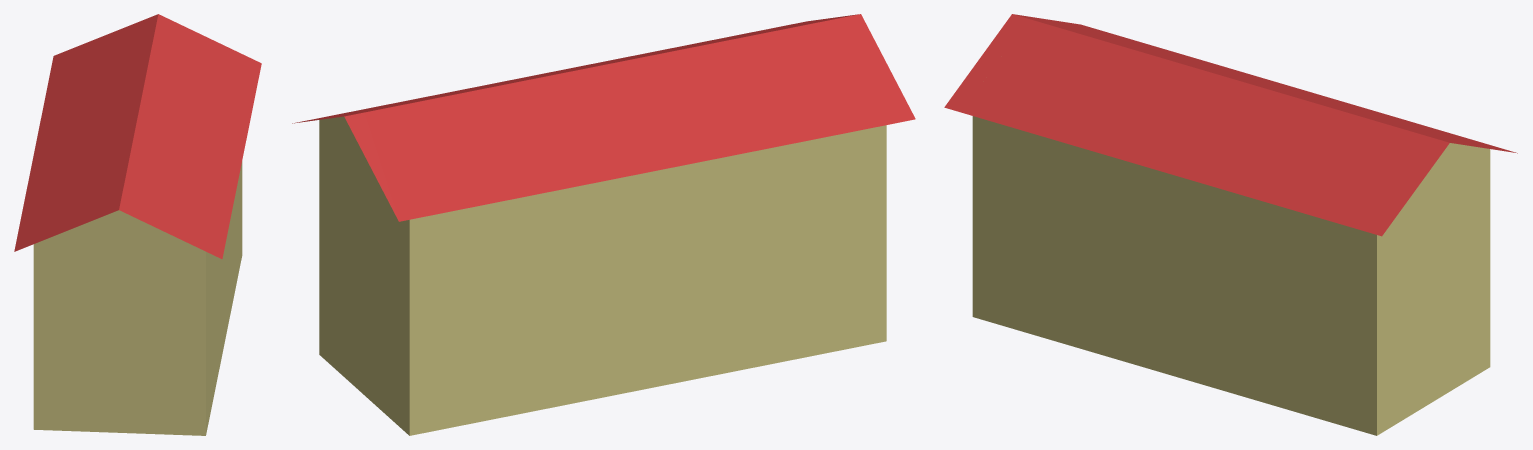
3 renders of one model, left to right at view 1: azimuth 30°, elevation 25°; view 2: azimuth 150°, elevation 25°; view 3: azimuth 270°, elevation 25°, orthographic. The views are drawn at different scales.
Size of the model in its own units: 12.16 by 13.94 by 7.07.
